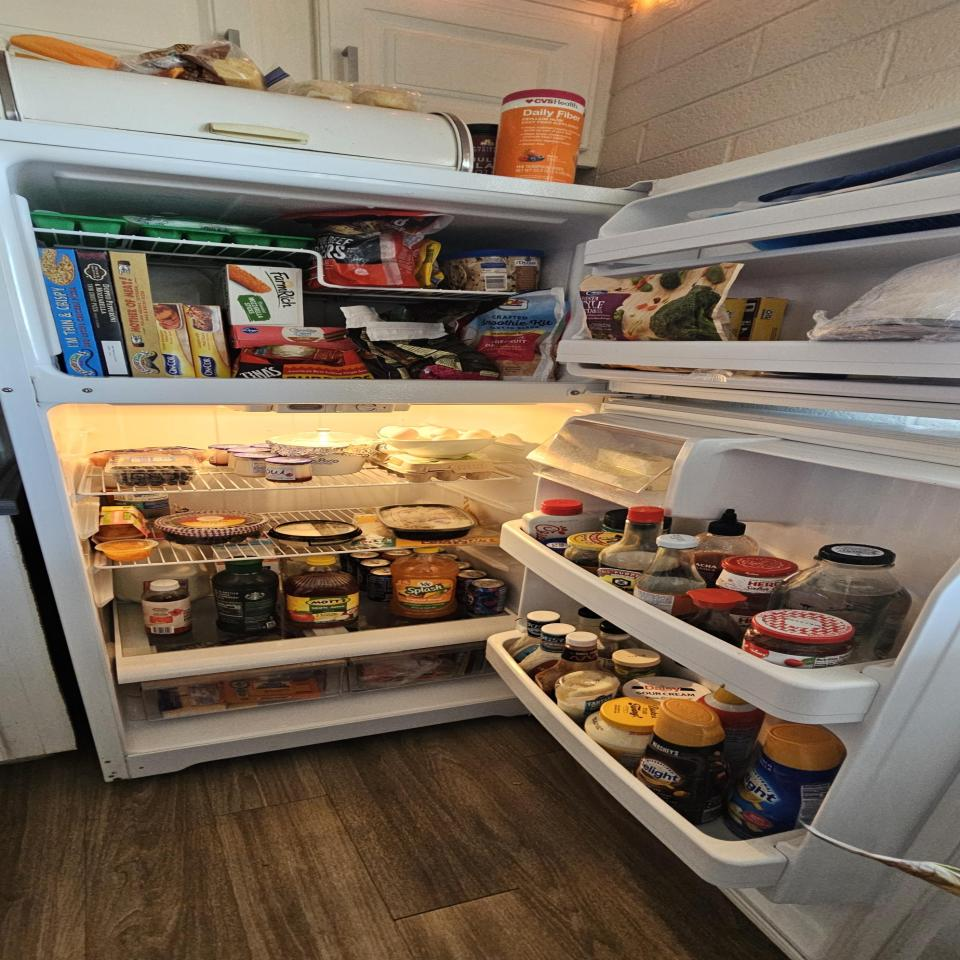Huevos: (374, 450, 496, 483), (380, 424, 493, 443)
blueberries: (105, 454, 198, 487)
mayonnaise: (585, 698, 672, 763)
